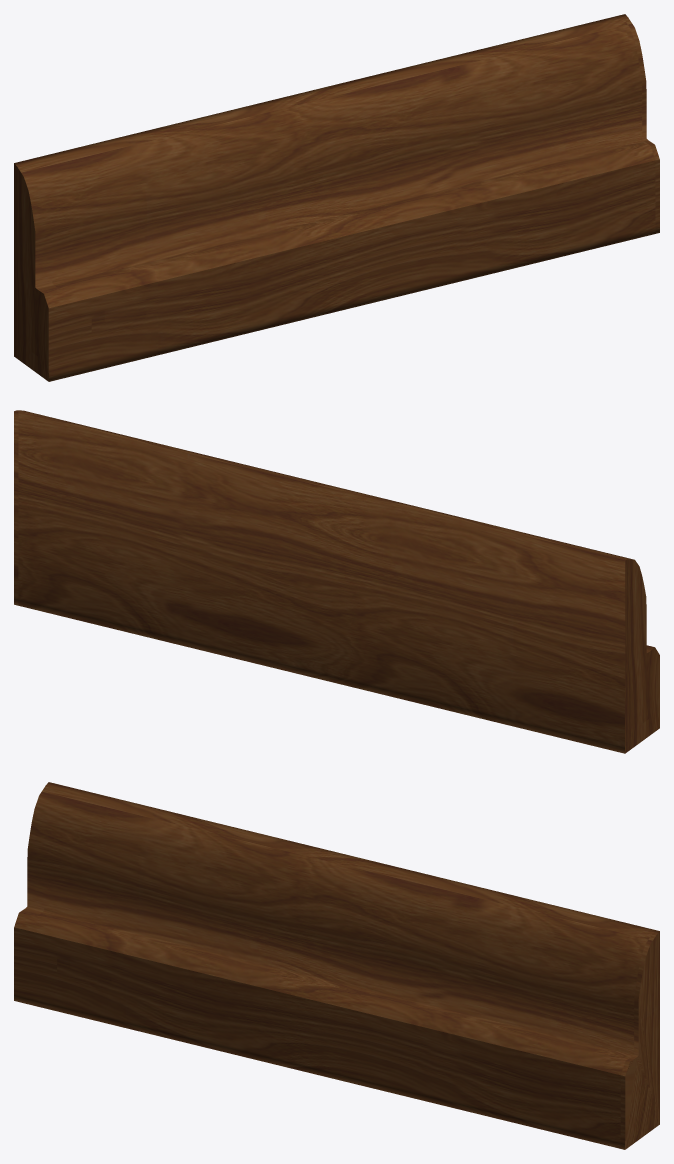
Rendered from Misc_FloorTrim.fbx.
The picture shows the model from 3 angles, top to bottom: view 1: azimuth 30°, elevation 25°; view 2: azimuth 150°, elevation 25°; view 3: azimuth 330°, elevation 25°; orthographic projection.
Parts seen in each view (by area): view 1: FloorBoardUVd:extrudedSurface4; view 2: FloorBoardUVd:extrudedSurface4; view 3: FloorBoardUVd:extrudedSurface4.
Boxes of the visible parts, <box> form: FloorBoardUVd:extrudedSurface4: <box>14,14,659,381</box>; FloorBoardUVd:extrudedSurface4: <box>14,410,659,753</box>; FloorBoardUVd:extrudedSurface4: <box>14,782,659,1149</box>.
Size of the model in its own units: 200 by 60.48 by 19.76.
